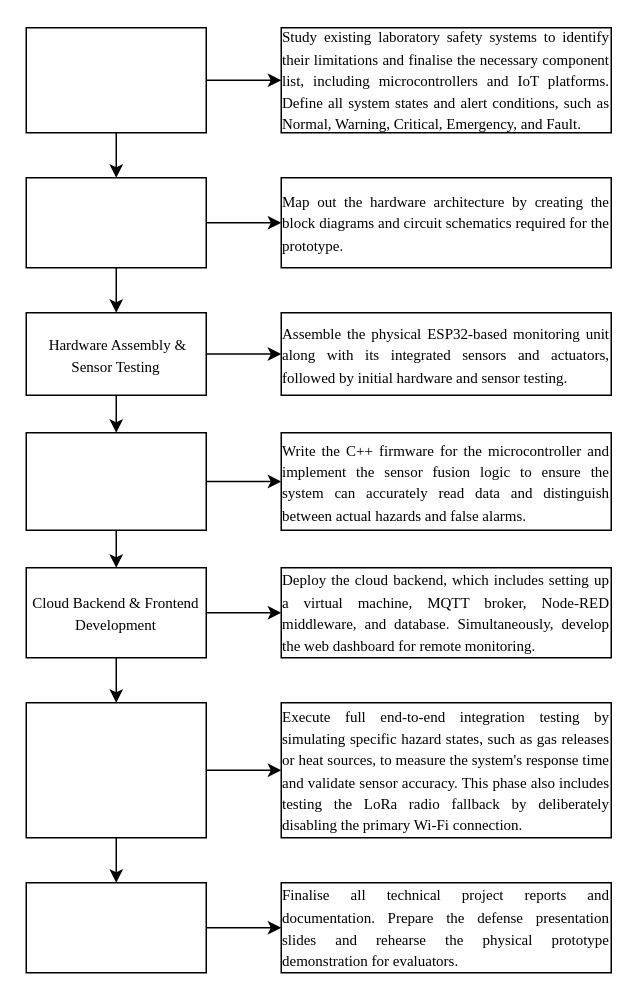
Some shapes in this 638 by 999 pixel diagram are drawn without their labels. Each missing label, with the box of its shape:
Circuit Design & Schematic: (25, 176, 206, 268)
Documentation & Final Presentation: (25, 881, 206, 973)
Firmware & Logic Development: (25, 431, 206, 530)
Integration, Testing & Validation: (25, 701, 206, 838)
Research & Requirement Analysis: (25, 26, 206, 133)
